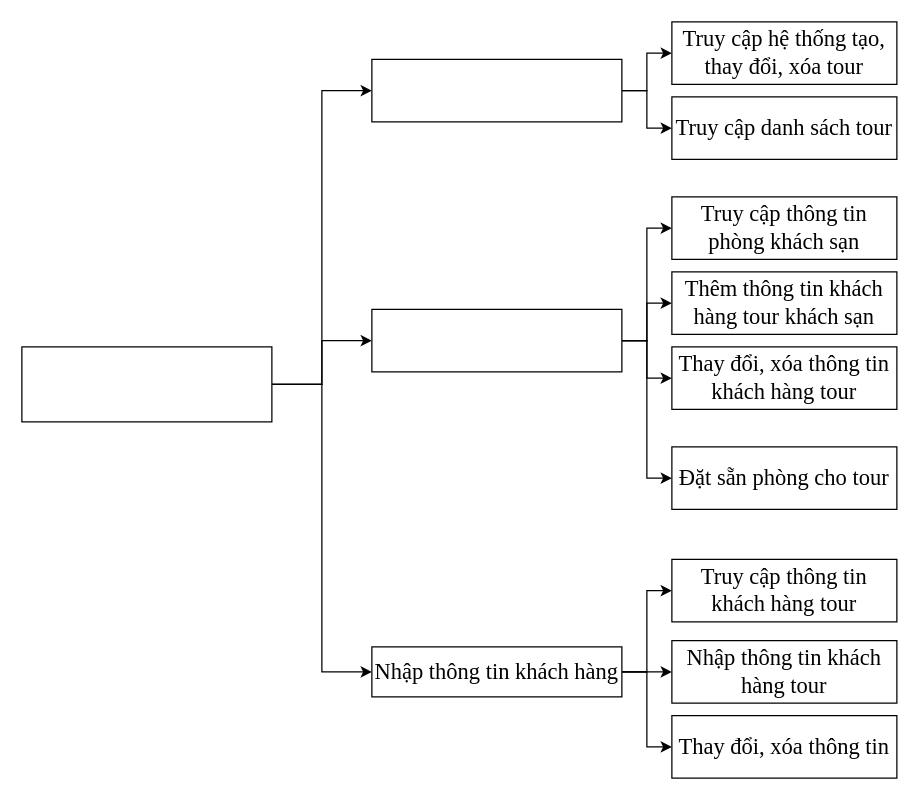
Image size: 919x800. Some labels were removed from this diagram. The centre of each missing label's shape, as x and y in pixels:
"NV đặt tour" belongs at pixel 146 384.
"Tạo tour du lịch" belongs at pixel 496 90.
"Đặt phòng khách sạn cho tour" belongs at pixel 496 340.
